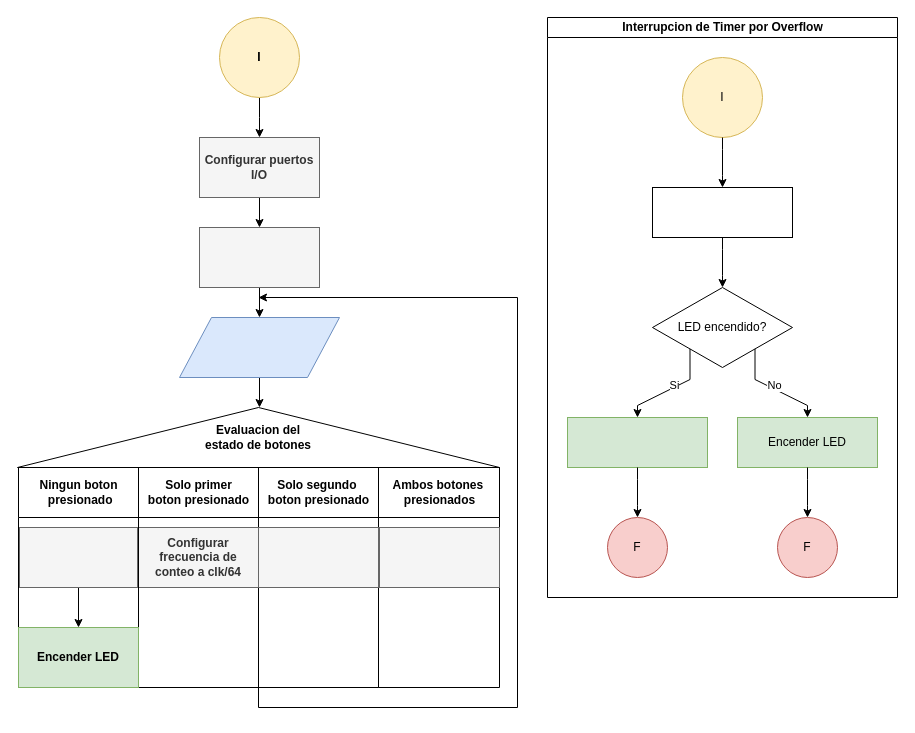
Some shapes in this 915 by 733 pixel diagram are drawn without their labels. The shapes that lost their labels are listed below. From the top down, each one's centre as x and y in pixels, then its label:
(x=722, y=212): Limpiar flag de Timer
(x=259, y=257): Configurar Timer
(x=259, y=347): Lectura de estado de botones
(x=637, y=442): Apagar LED
(x=78, y=557): Apagar Timer
(x=318, y=557): Configurar frecuencia de conteo a clk/256
(x=439, y=557): Configurar frecuencia de conteo a clk/1024
